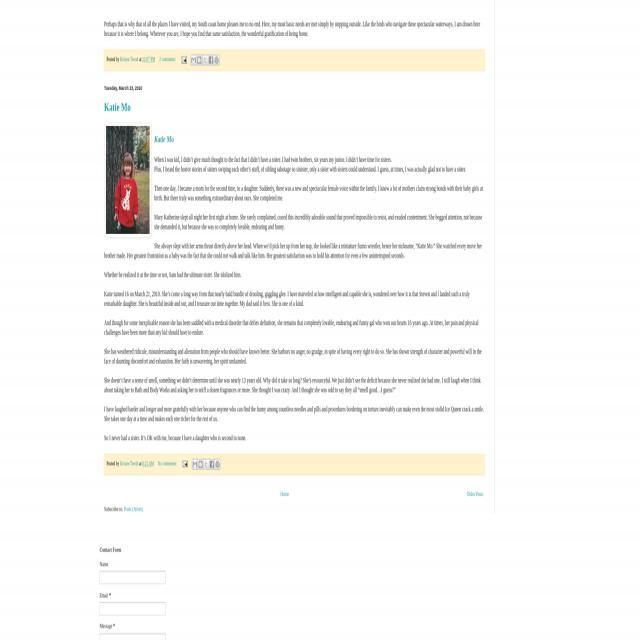button: (104, 123, 152, 237), (213, 55, 220, 66), (191, 55, 197, 66), (196, 55, 202, 66), (202, 55, 208, 66), (208, 55, 214, 66), (192, 459, 198, 470), (198, 459, 204, 470), (203, 459, 209, 470), (209, 459, 215, 470), (214, 459, 220, 470), (181, 56, 187, 63), (183, 460, 188, 467)
field: (100, 571, 166, 584), (100, 602, 166, 615)
